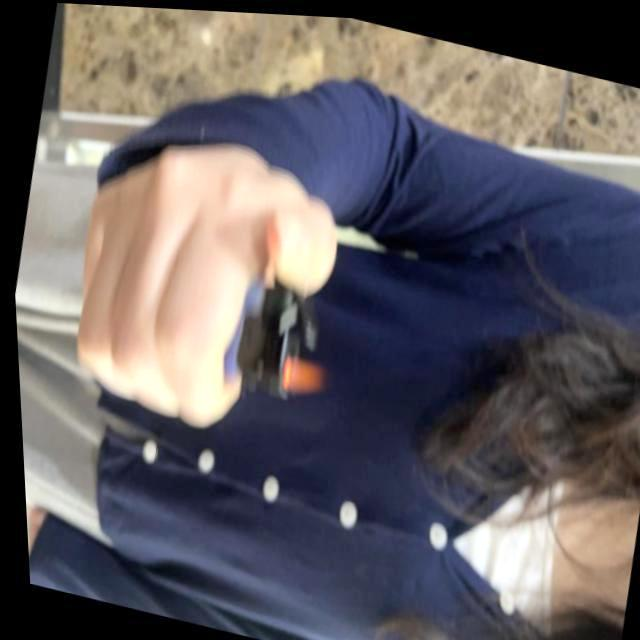fire: (276, 351, 324, 401)
